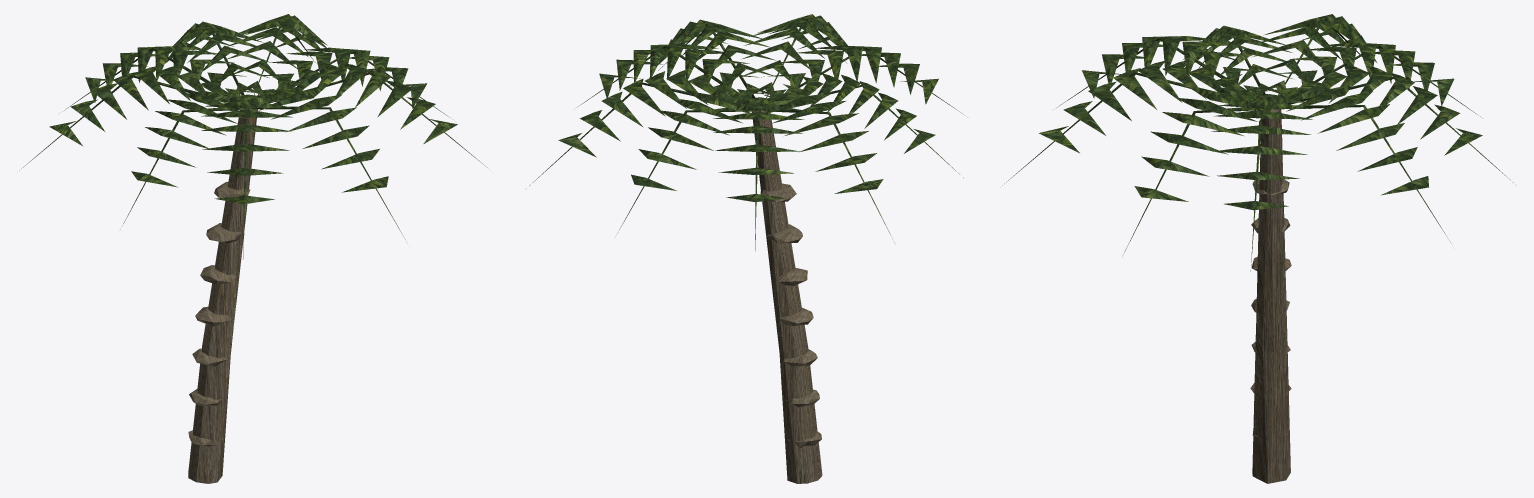
Rendered from tree_palm_a.gltf.
3 renders of one model, left to right at view 1: azimuth 30°, elevation 25°; view 2: azimuth 150°, elevation 25°; view 3: azimuth 270°, elevation 25°, orthographic. The views are drawn at different scales.
Visible parts, largest first — view 1: tree_palm_a_game; view 2: tree_palm_a_game; view 3: tree_palm_a_game.
Part boxes in pixels (<box>): tree_palm_a_game: <box>19,14,487,483</box>; tree_palm_a_game: <box>526,14,963,483</box>; tree_palm_a_game: <box>1002,14,1516,483</box>.
Size of the model in its own units: 0.5628 by 0.562 by 0.6066.
Materials: 2 (2 with a texture image).
